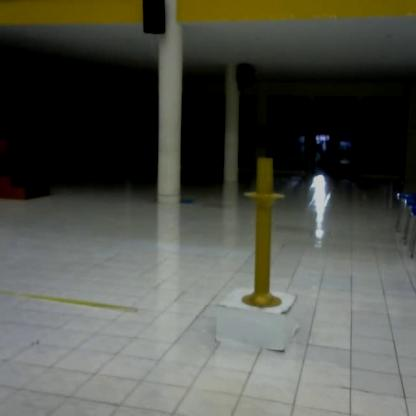pole: (238, 150, 288, 318)
